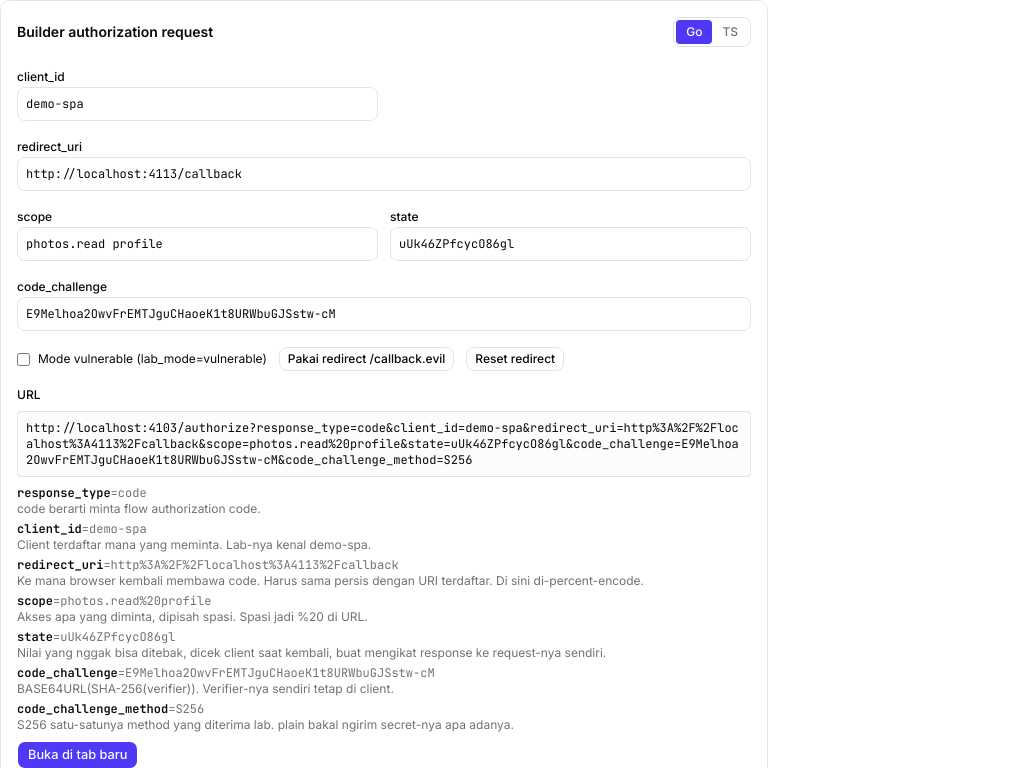
Test case: OAuthUrlBuilder › encodes scope spaces as %20, encodes the redirect_uri and sends code_challenge_method=S256
Replace the text in the field labelled "state" with "abc123" at (570,244), box [390, 227, 751, 261]
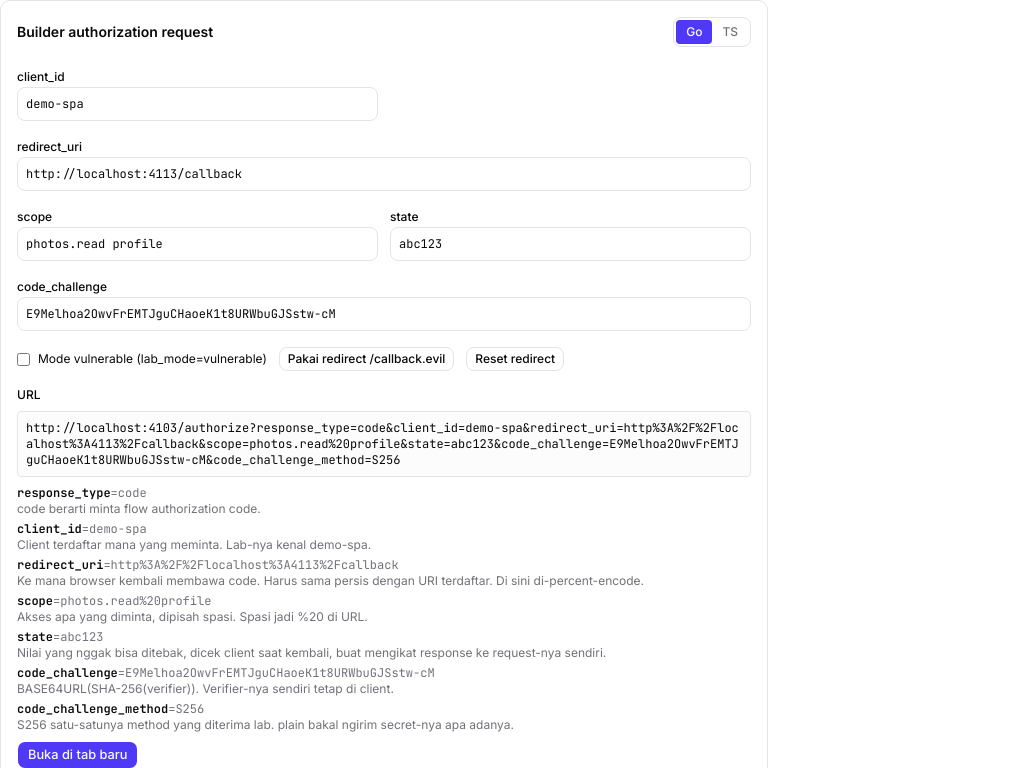
Check: the text named "URL authorize" shows "http://localhost:4103/authorize?response_type=code&client_id=demo-spa&", box [26, 420, 739, 468]
Check: the text named "URL authorize" shows "state=abc123", box [26, 420, 739, 468]
